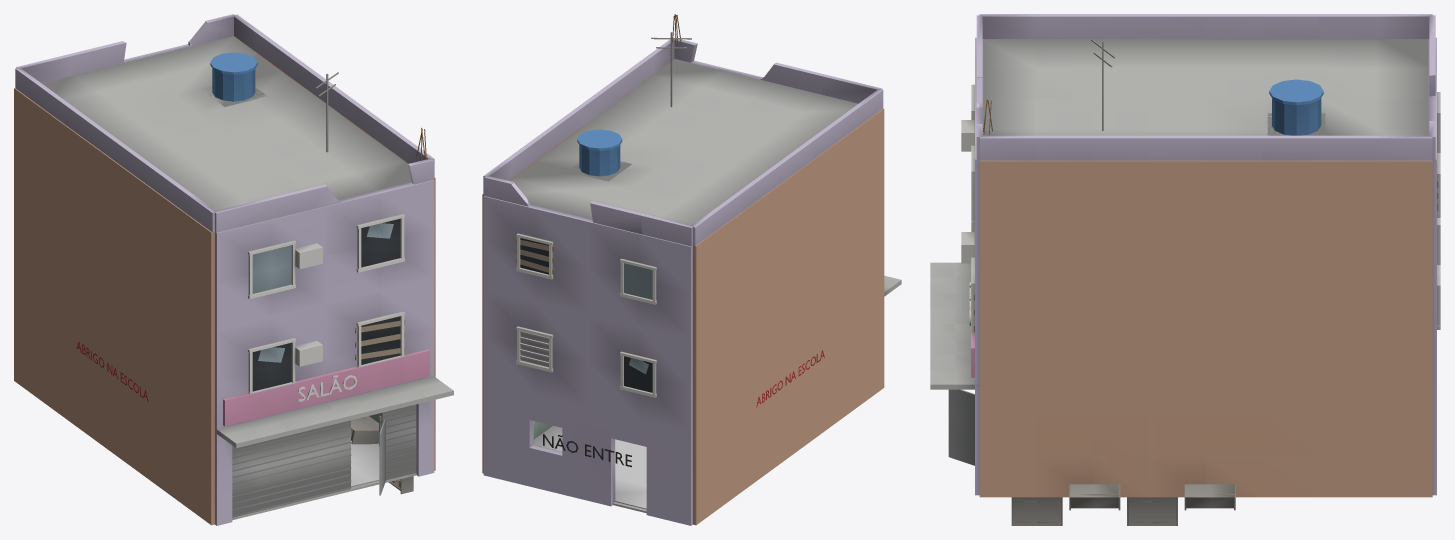
The model's file is sobrado_11.glb.
3 renders of one model, left to right at view 1: azimuth 30°, elevation 25°; view 2: azimuth 150°, elevation 25°; view 3: azimuth 270°, elevation 25°, orthographic. The views are drawn at different scales.
Parts seen in each view (by area): view 1: ext, longe, detalhe, dentro; view 2: ext, longe, detalhe, dentro; view 3: ext, longe, detalhe, dentro.
Part boxes in pixels (left/top/right/bottom): ext: left=14, top=36, right=435, bottom=525; longe: left=15, top=14, right=453, bottom=517; detalhe: left=76, top=52, right=426, bottom=401; dentro: left=232, top=413, right=416, bottom=520; ext: left=482, top=59, right=884, bottom=525; longe: left=483, top=39, right=901, bottom=296; detalhe: left=515, top=14, right=824, bottom=467; dentro: left=533, top=421, right=646, bottom=513; ext: left=975, top=37, right=1436, bottom=497; longe: left=930, top=14, right=1435, bottom=465; detalhe: left=961, top=39, right=1440, bottom=334; dentro: left=1011, top=484, right=1235, bottom=525.
Size of what is drawn, in the model's own units: 7.74 by 12.29 by 12.4.
